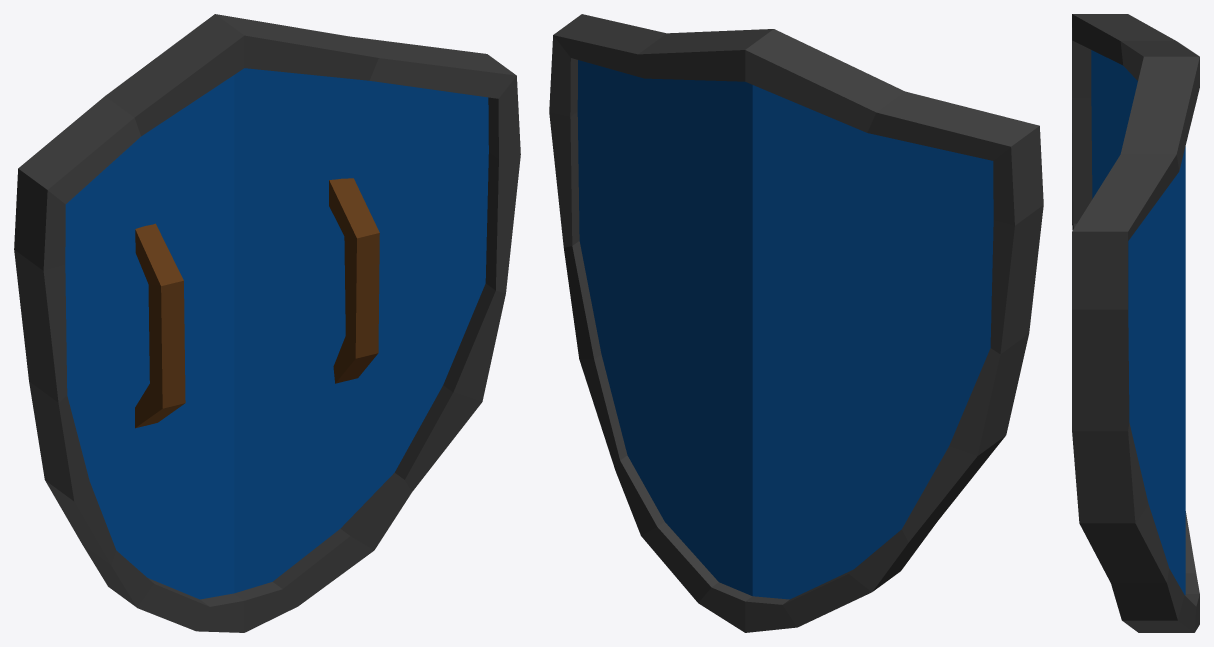
Rendered from ShieldBlue.fbx.
3 renders of one model, left to right at view 1: azimuth 30°, elevation 25°; view 2: azimuth 150°, elevation 25°; view 3: azimuth 270°, elevation 25°, orthographic. The views are drawn at different scales.
Parts seen in each view (by area): view 1: Plane, Plane.001; view 2: Plane; view 3: Plane.
Boxes of the visible parts, left/top/right/bottom form: Plane: left=14, top=14, right=520, bottom=632; Plane.001: left=135, top=178, right=379, bottom=428; Plane: left=549, top=14, right=1043, bottom=632; Plane: left=1072, top=14, right=1199, bottom=632.
Bounding box in the file's own units: 217 × 260 × 53.02.
1 material, 1 textured.
